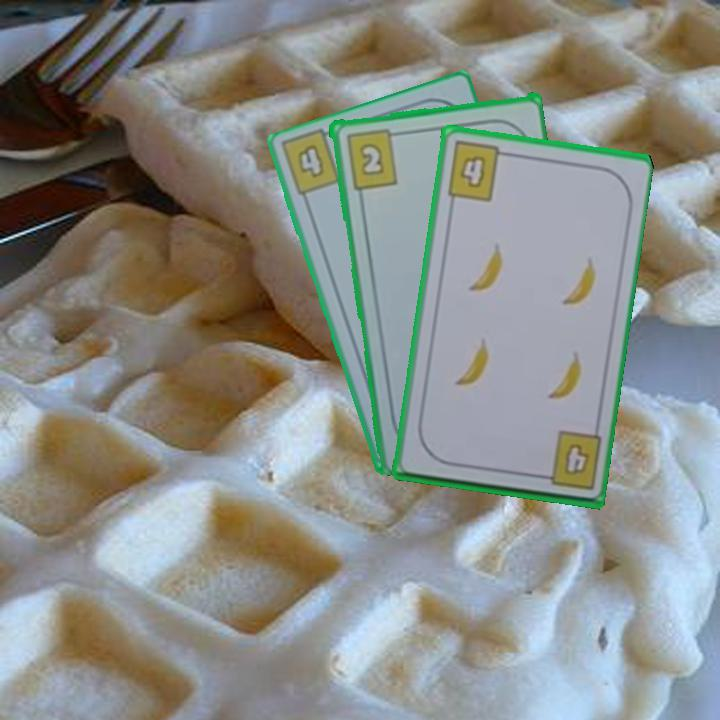2b: (342, 125, 403, 191)
4b: (532, 428, 604, 493), (443, 138, 512, 204), (293, 140, 327, 181)
